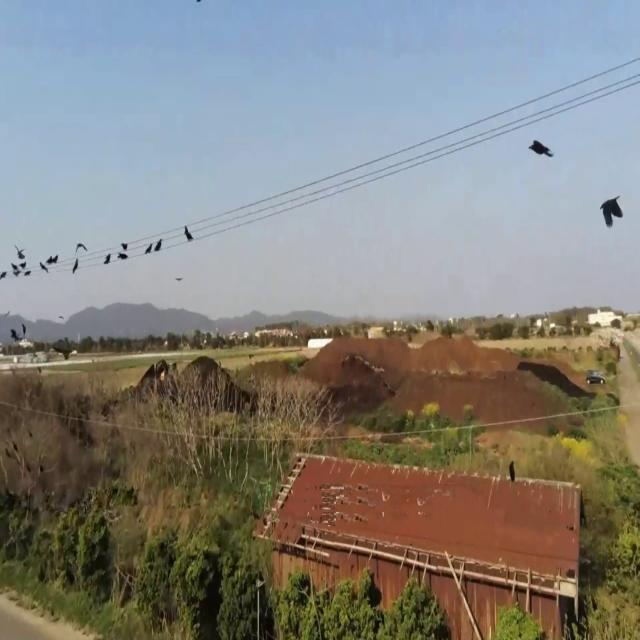bird: (599, 185, 623, 236), (528, 131, 552, 168), (41, 247, 57, 278), (72, 240, 85, 270), (150, 234, 162, 258), (118, 240, 128, 264), (72, 247, 80, 275), (184, 221, 192, 247), (509, 456, 515, 486), (0, 264, 7, 286), (104, 248, 111, 268)
